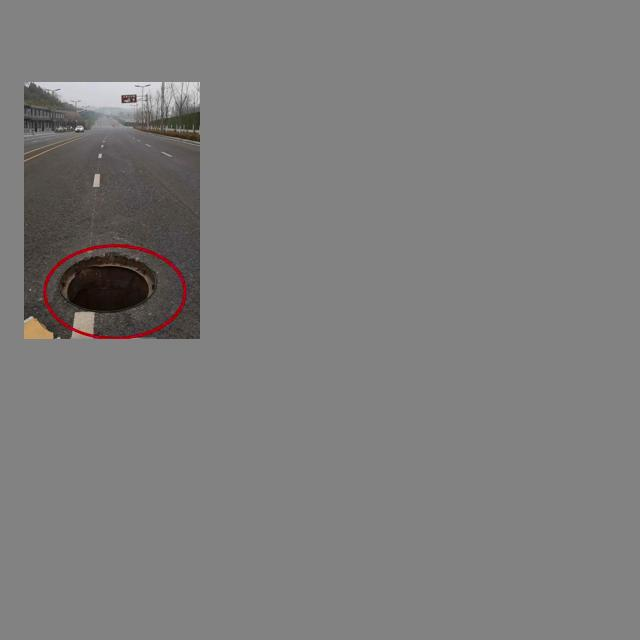lose: (57, 253, 158, 309)
